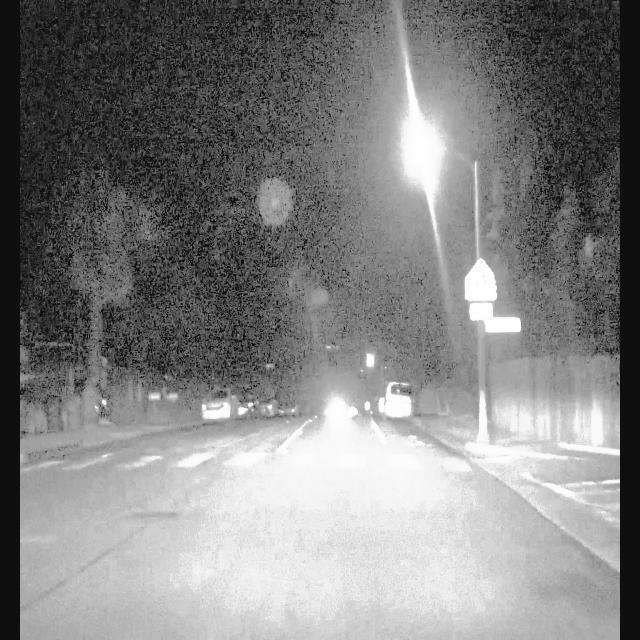Sign: (465, 259, 497, 301), (487, 316, 524, 336), (467, 305, 495, 321)
